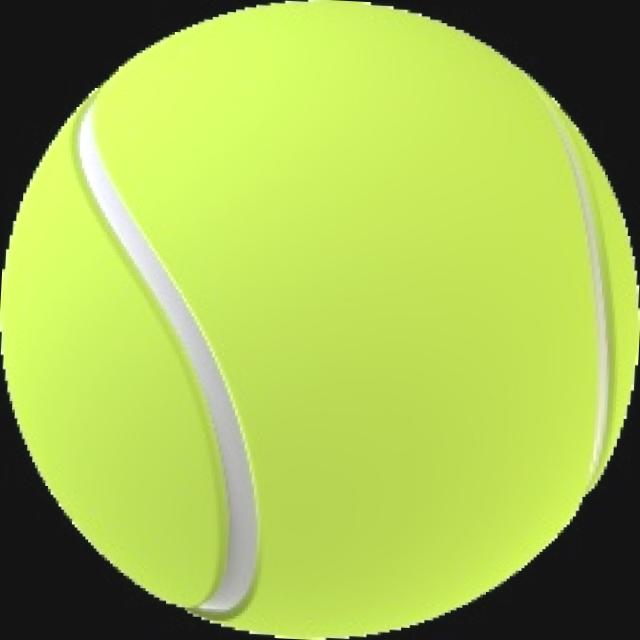Tennis Ball: (0, 1, 637, 638)
